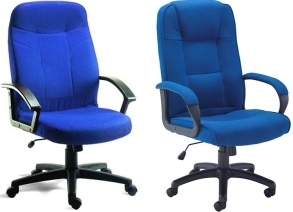chair: (1, 1, 137, 210)
chair1: (156, 1, 291, 212)
